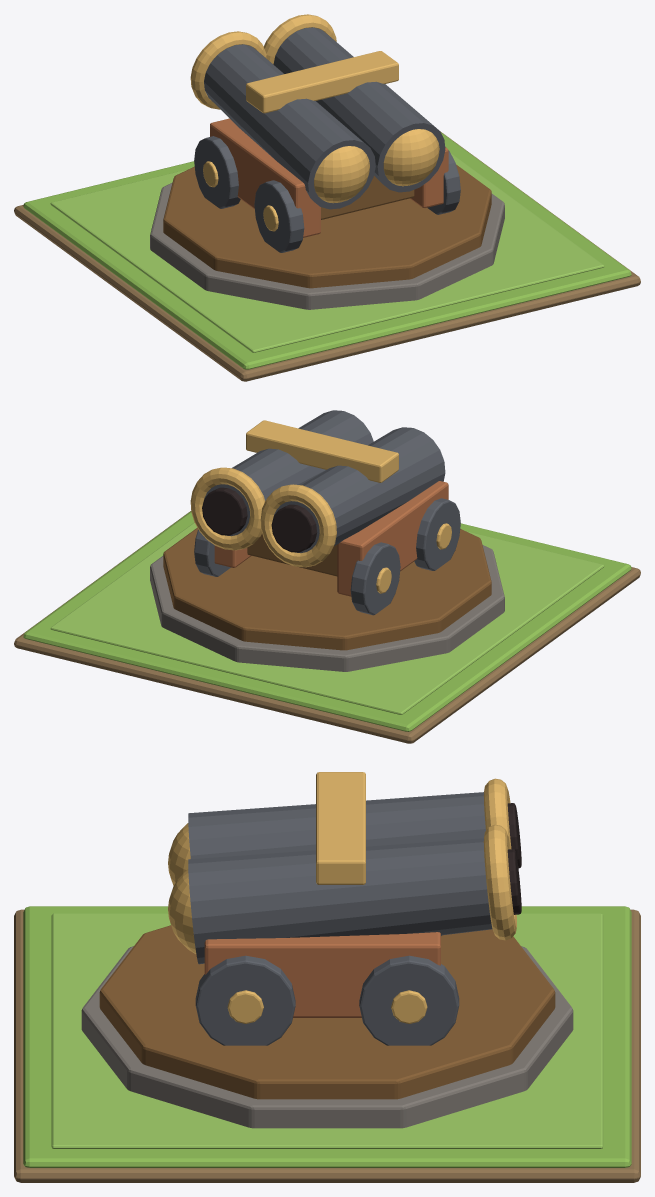
File: double_cannon_lv4.glb
The picture shows the model from 3 angles, top to bottom: view 1: azimuth 30°, elevation 25°; view 2: azimuth 150°, elevation 25°; view 3: azimuth 270°, elevation 25°; orthographic projection. The views are drawn at different scales.
Visible parts, largest first — view 1: Base_Inner, TurntableWood, Base_Grass, TwinBarrel_-1, TurntableStone, Base_Dirt, TwinBarrel_1, TwinYokeStrap, DC_Cheek_-1, TwinBreech_1, TwinBreech_-1, DC_Wheel_-1_-1 (+6 smaller); view 2: Base_Inner, TurntableWood, Base_Grass, TurntableStone, Base_Dirt, TwinBarrel_-1, TwinYokeStrap, TwinBarrel_1, DC_Cheek_-1, TwinMuzzleLip_-1, TwinMuzzleLip_1, DC_Wheel_-1_1 (+6 smaller); view 3: Base_Inner, TurntableWood, Base_Grass, TwinBarrel_1, TurntableStone, Base_Dirt, TwinBarrel_-1, DC_Cheek_1, DC_Wheel_1_1, DC_Wheel_1_-1, TwinYokeStrap, TwinMuzzleLip_1 (+6 smaller).
Boxes of the visible parts, box(x1,y1,x2,y2) form: Base_Inner: box(50, 153, 604, 352); TurntableWood: box(163, 164, 491, 288); Base_Grass: box(23, 132, 631, 369); TwinBarrel_-1: box(204, 44, 375, 209); TurntableStone: box(150, 182, 504, 309); Base_Dirt: box(14, 131, 640, 381); TwinBarrel_1: box(273, 27, 445, 192); TwinYokeStrap: box(246, 51, 398, 113); DC_Cheek_-1: box(210, 118, 320, 237); TwinBreech_1: box(383, 129, 439, 186); TwinBreech_-1: box(314, 146, 369, 203); DC_Wheel_-1_-1: box(254, 180, 304, 252); Base_Inner: box(50, 522, 604, 714); TurntableWood: box(163, 527, 491, 650); Base_Grass: box(23, 511, 631, 731); TurntableStone: box(150, 545, 504, 671); Base_Dirt: box(14, 511, 640, 743); TwinBarrel_-1: box(274, 427, 445, 553); TwinYokeStrap: box(246, 420, 398, 482); TwinBarrel_1: box(204, 410, 373, 536); DC_Cheek_-1: box(337, 481, 448, 596); TwinMuzzleLip_-1: box(260, 484, 336, 567); TwinMuzzleLip_1: box(190, 467, 265, 550); DC_Wheel_-1_1: box(350, 542, 400, 615); Base_Inner: box(51, 913, 603, 1148); TurntableWood: box(99, 925, 555, 1099); Base_Grass: box(23, 906, 631, 1167); TwinBarrel_1: box(188, 838, 492, 964); TurntableStone: box(81, 946, 573, 1128); Base_Dirt: box(14, 909, 640, 1182); TwinBarrel_-1: box(188, 792, 485, 858); DC_Cheek_1: box(204, 932, 440, 1017); DC_Wheel_1_1: box(359, 955, 459, 1045); DC_Wheel_1_-1: box(195, 955, 295, 1045); TwinYokeStrap: box(316, 772, 365, 884); TwinMuzzleLip_1: box(483, 824, 516, 940).
Bounding box in the file's own units: 2.76 × 1.2 × 2.76.
